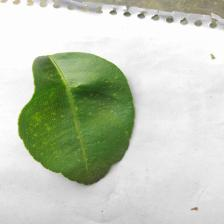healthy: (41, 77, 110, 138)
